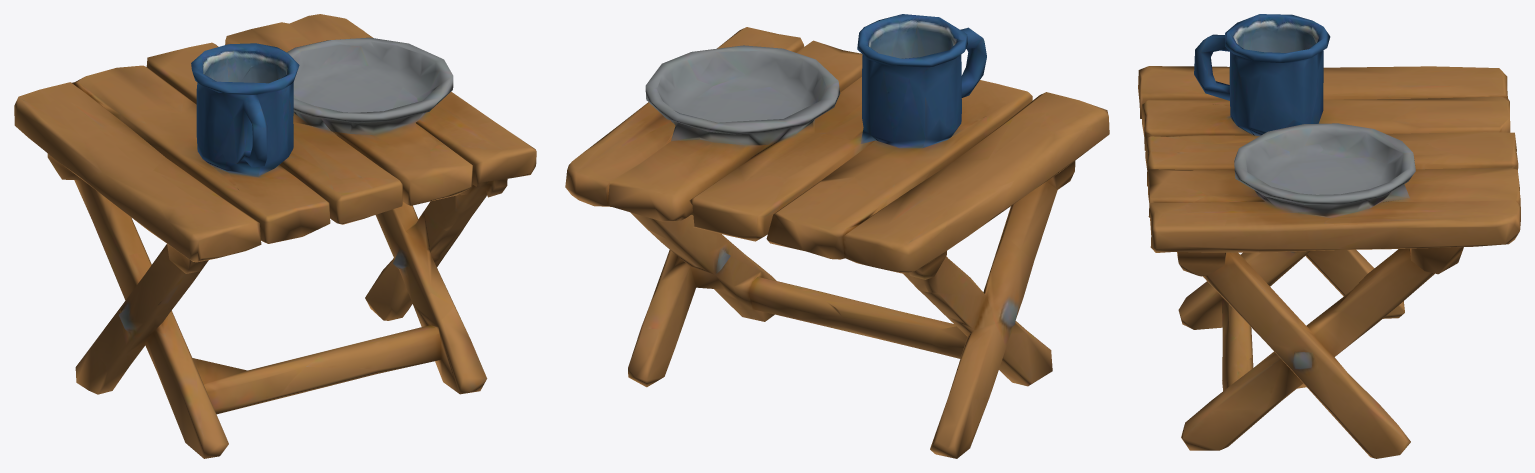
File: f-table.glb
3 renders of one model, left to right at view 1: azimuth 30°, elevation 25°; view 2: azimuth 150°, elevation 25°; view 3: azimuth 270°, elevation 25°, orthographic. The views are drawn at different scales.
Parts seen in each view (by area): view 1: tripo_node_6b9614f6-c4a5-4b33-bf8a-6f02a545592b; view 2: tripo_node_6b9614f6-c4a5-4b33-bf8a-6f02a545592b; view 3: tripo_node_6b9614f6-c4a5-4b33-bf8a-6f02a545592b.
Part boxes in pixels (<box>): tripo_node_6b9614f6-c4a5-4b33-bf8a-6f02a545592b: <box>14,14,536,458</box>; tripo_node_6b9614f6-c4a5-4b33-bf8a-6f02a545592b: <box>565,14,1109,458</box>; tripo_node_6b9614f6-c4a5-4b33-bf8a-6f02a545592b: <box>1138,14,1520,458</box>.
Size of the model in its own units: 1 by 0.9232 by 0.9773.
1 material, 1 textured.
